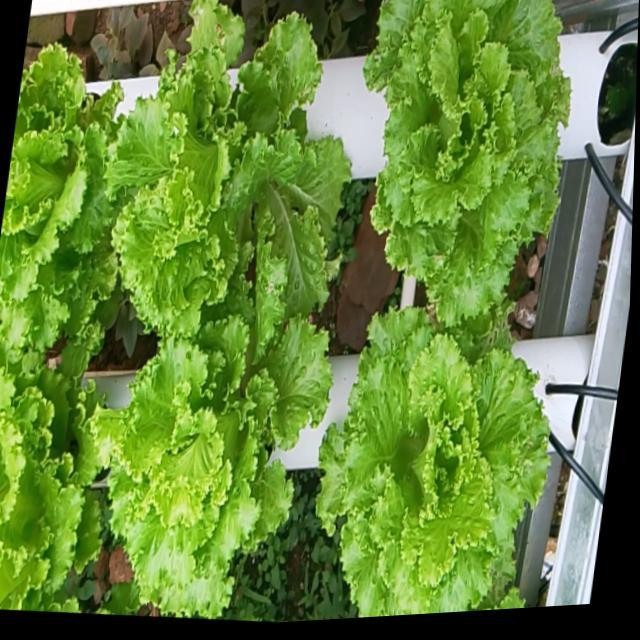Mature: (102, 0, 346, 334), (96, 294, 326, 618), (310, 311, 544, 618), (359, 0, 565, 335), (0, 43, 116, 350), (0, 355, 93, 611)
